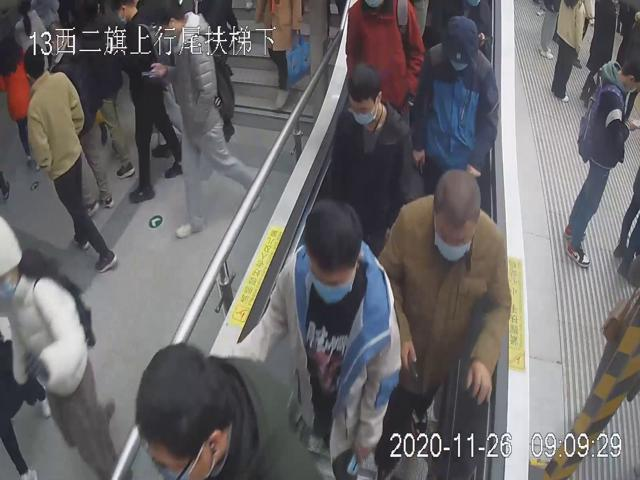person: (227, 196, 401, 480), (374, 169, 512, 475), (22, 43, 118, 275), (324, 61, 416, 258), (561, 46, 640, 271), (418, 11, 499, 197)
